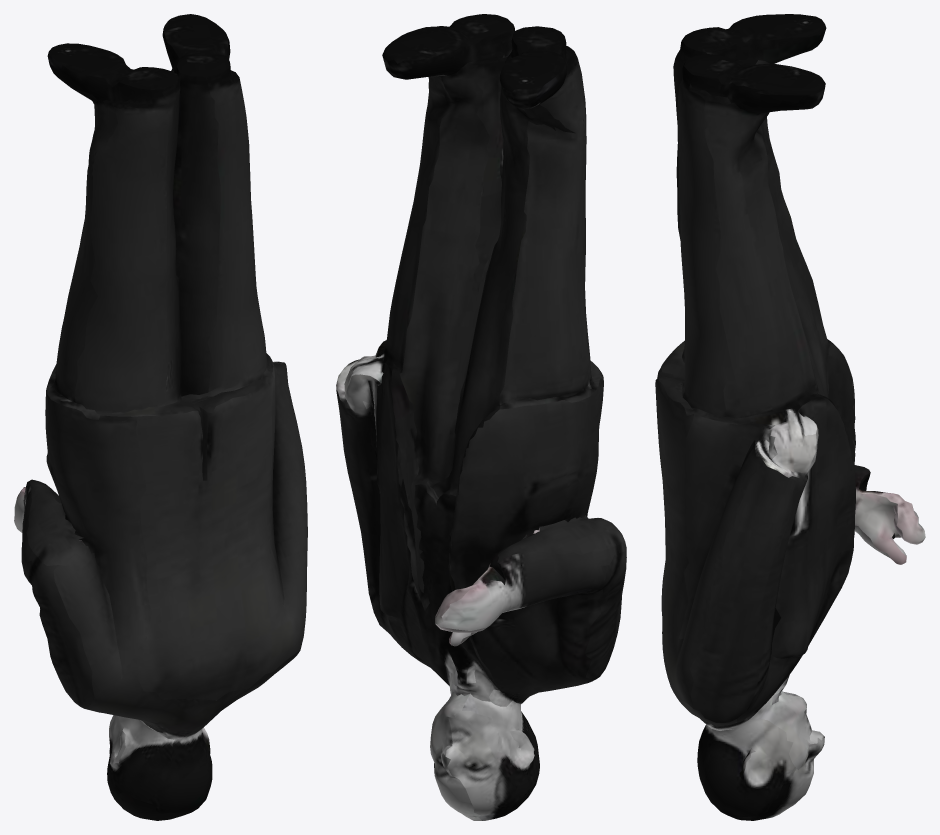
The model's file is vonneumann-proto.glb.
The picture shows the model from 3 angles, left to right: view 1: azimuth 30°, elevation 25°; view 2: azimuth 150°, elevation 25°; view 3: azimuth 270°, elevation 25°; orthographic projection.
Visible parts, largest first — view 1: textured_mesh.obj; view 2: textured_mesh.obj; view 3: textured_mesh.obj.
Boxes of the visible parts, x1,y1,x2,y2 form: textured_mesh.obj: [14, 14, 307, 820]; textured_mesh.obj: [336, 14, 626, 820]; textured_mesh.obj: [655, 14, 925, 820].
Bounding box in the file's own units: 0.7282 × 1.99 × 0.6391.
1 material, 1 textured.
